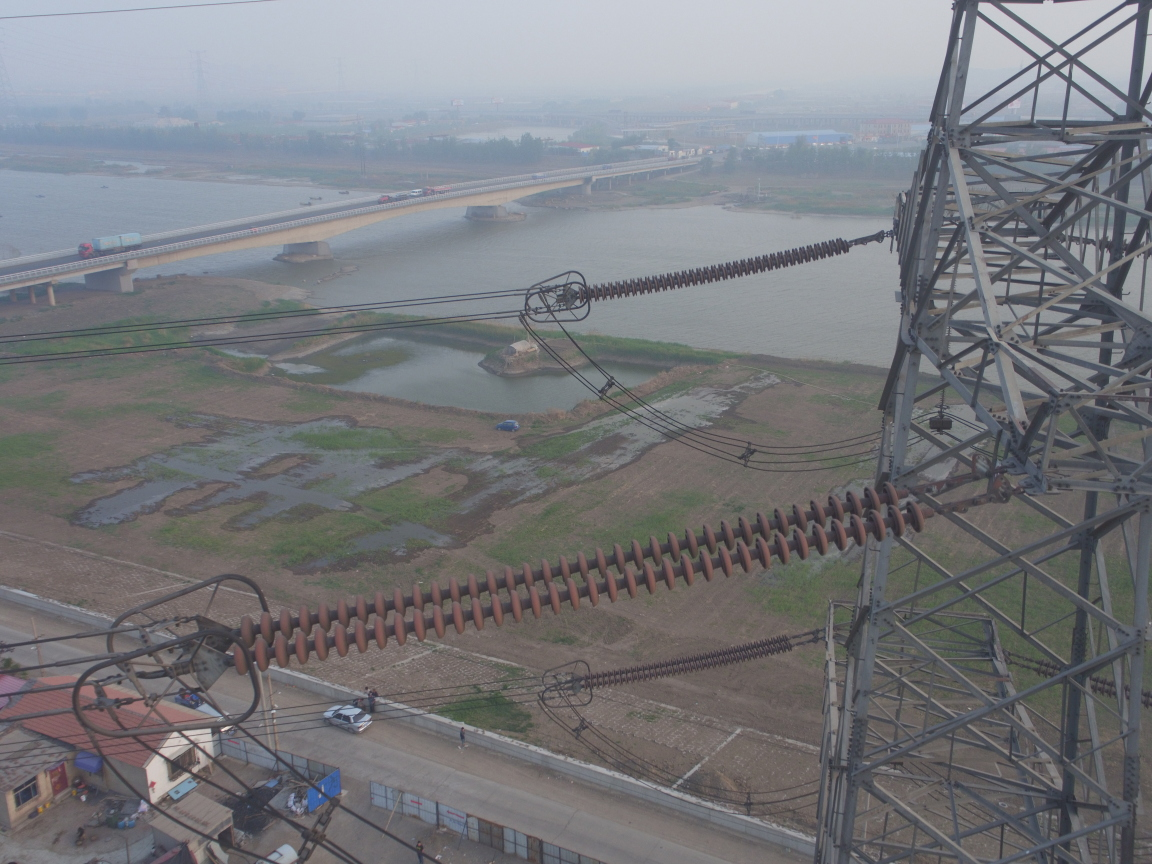insulator: (214, 476, 957, 680), (567, 230, 873, 304), (572, 632, 808, 690)
